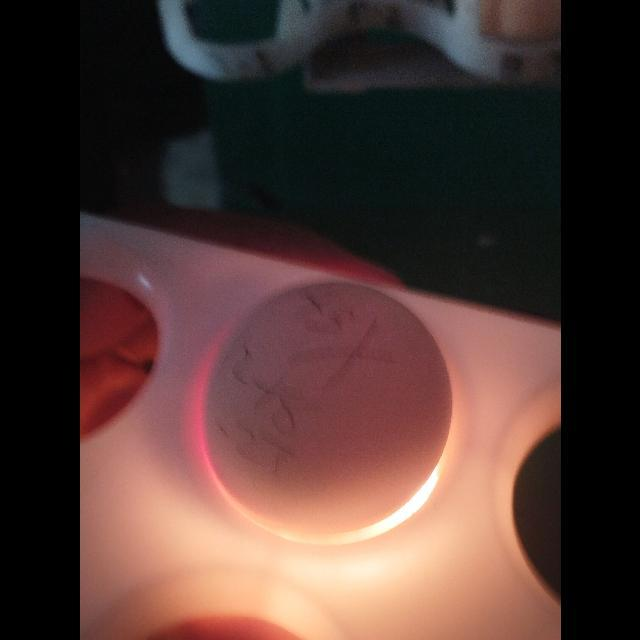Fertile: (195, 276, 458, 546)
